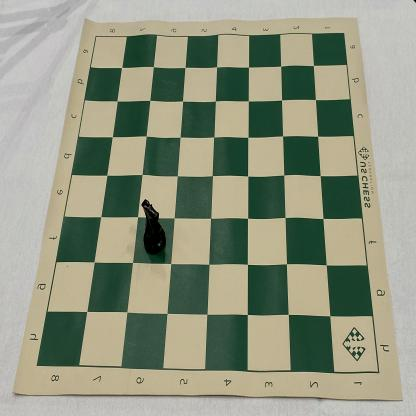black-knight: (142, 198, 166, 256)
